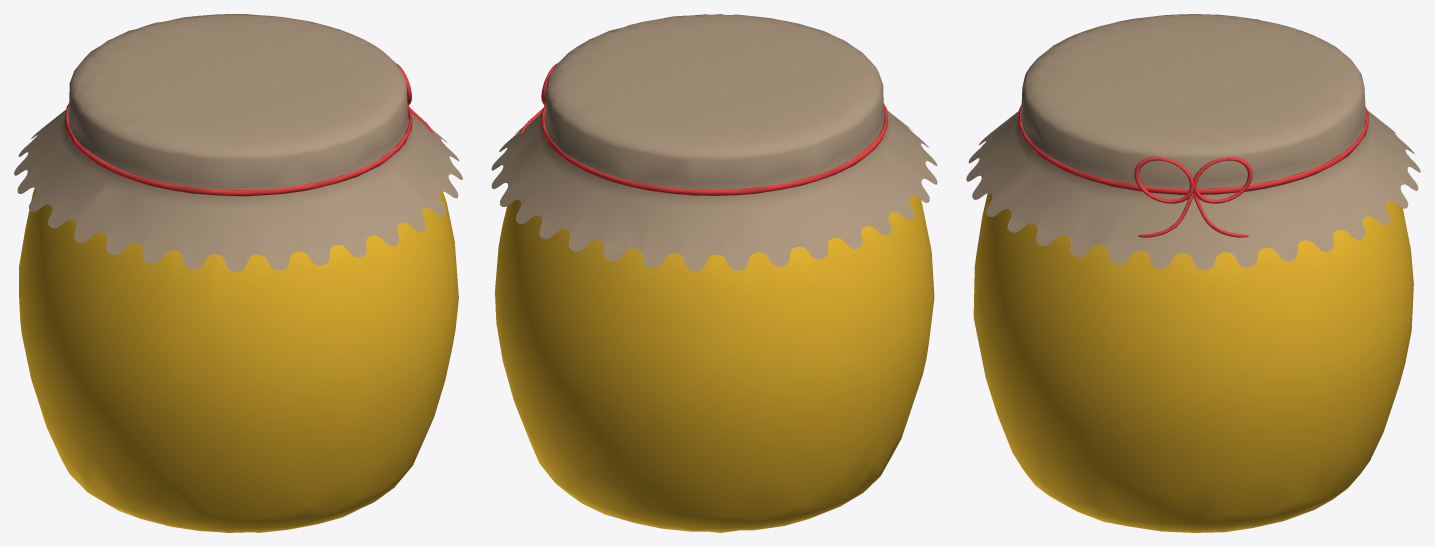
The model's file is jar1.glb.
3 views of the same model, side by side, from view 1: azimuth 30°, elevation 25°; view 2: azimuth 150°, elevation 25°; view 3: azimuth 270°, elevation 25° (orthographic).
Parts seen in each view (by area): view 1: Cylinder, Cylinder.001, Circle.001; view 2: Cylinder, Cylinder.001, Circle.001; view 3: Cylinder, Cylinder.001, Circle.001.
Part boxes in pixels (x1=…): Cylinder: x1=19, y1=188, x2=458, y2=532; Cylinder.001: x1=14, y1=14, x2=462, y2=271; Circle.001: x1=64, y1=63, x2=432, y2=196; Cylinder: x1=495, y1=196, x2=934, y2=532; Cylinder.001: x1=491, y1=14, x2=937, y2=271; Circle.001: x1=520, y1=63, x2=888, y2=195; Cylinder: x1=973, y1=193, x2=1413, y2=532; Cylinder.001: x1=966, y1=14, x2=1420, y2=269; Circle.001: x1=1018, y1=104, x2=1368, y2=237.
Size of the model in its own units: 2.17 by 2.18 by 2.2.
Materials: 3 (3 with a texture image).
